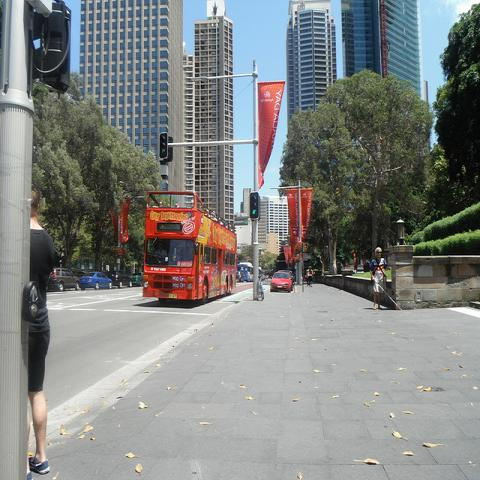bus: (142, 190, 237, 304), (237, 264, 263, 282)
car: (42, 267, 80, 290), (79, 272, 113, 291), (106, 269, 134, 288), (270, 272, 292, 293), (278, 270, 294, 282), (130, 272, 143, 286)
